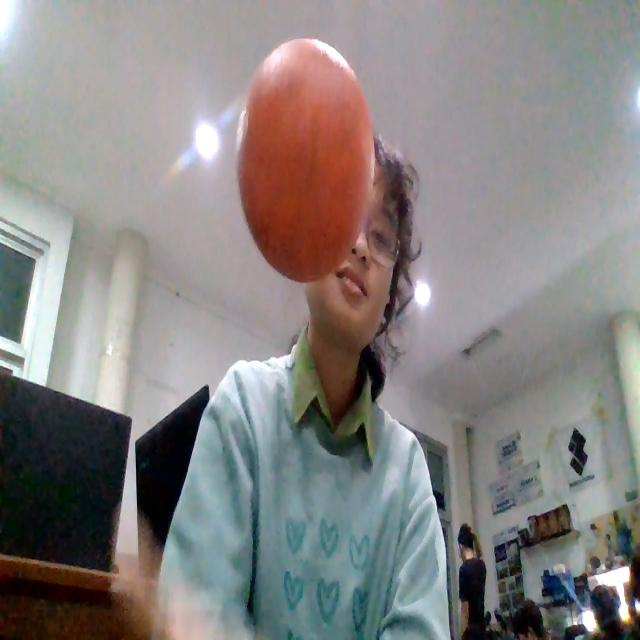ball: (236, 36, 374, 282)
